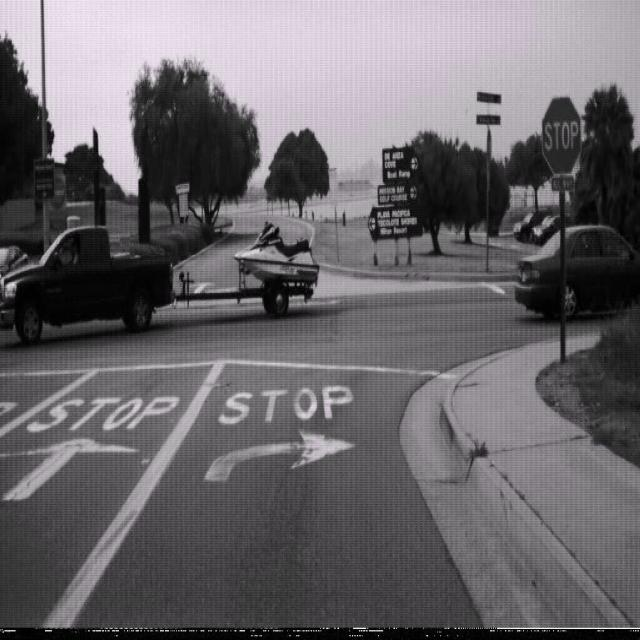stop: (540, 95, 582, 176)
